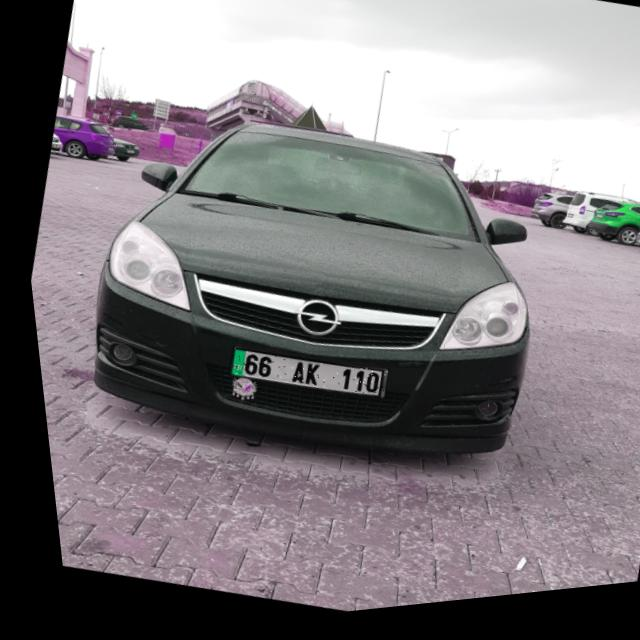license_plate: (220, 340, 380, 416)
